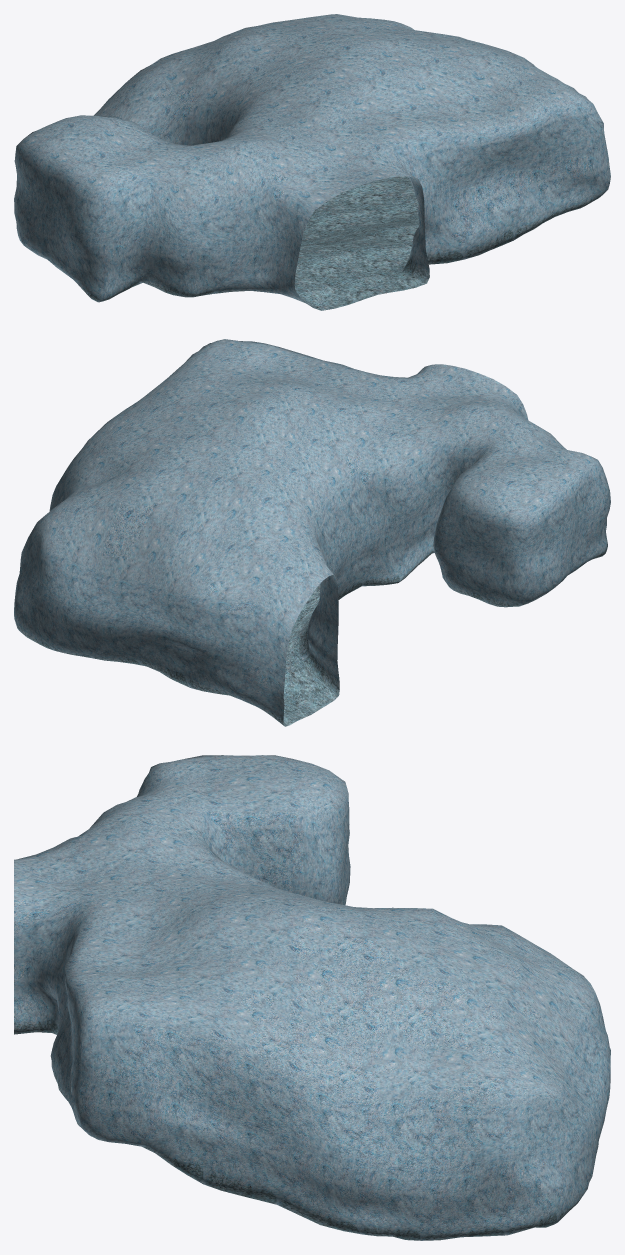
Rendered from thm_all_cave_s01_ice_r5_mesh_r5.fbx.
3 renders of one model, top to bottom at view 1: azimuth 30°, elevation 25°; view 2: azimuth 150°, elevation 25°; view 3: azimuth 270°, elevation 25°, orthographic. The views are drawn at different scales.
Visible parts, largest first — view 1: mesh_node; view 2: mesh_node; view 3: mesh_node.
Part boxes in pixels (x1,y1,x2,y2): mesh_node: (14,14,610,310); mesh_node: (14,339,610,726); mesh_node: (14,755,610,1240).
Bounding box in the file's own units: 98.88 × 42.82 × 84.01.
